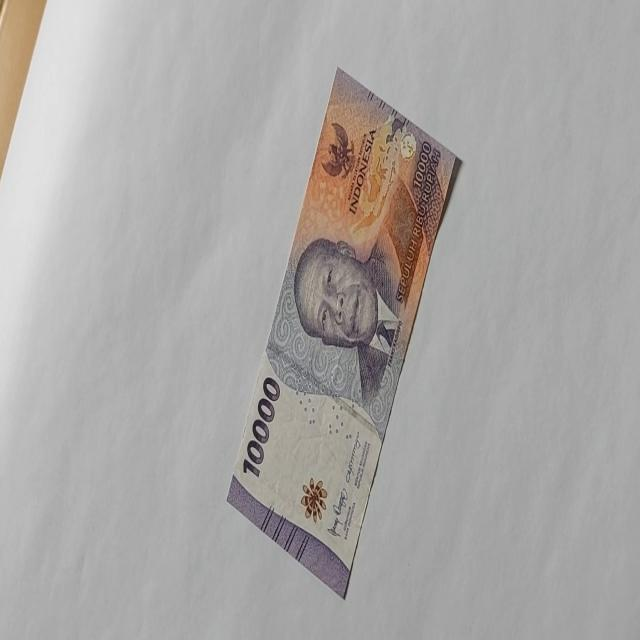sepuluh ribu rupiah: (225, 65, 462, 599), (292, 234, 402, 406)
